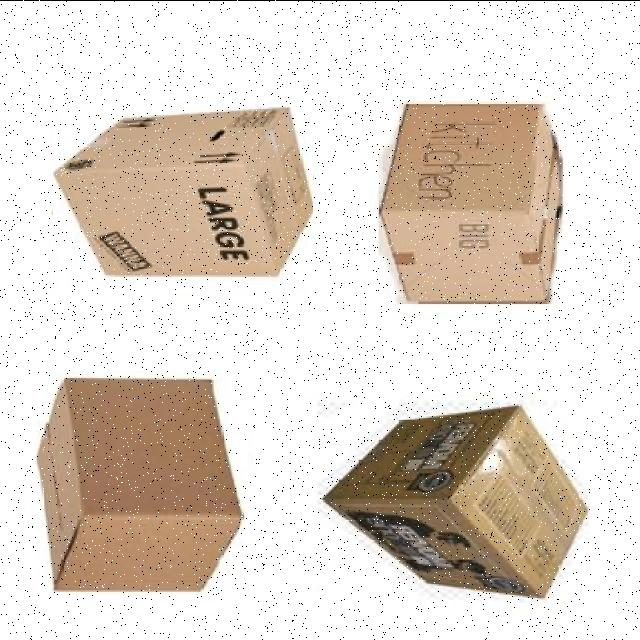normal: (35, 371, 248, 598), (52, 100, 312, 285), (375, 94, 568, 308)
